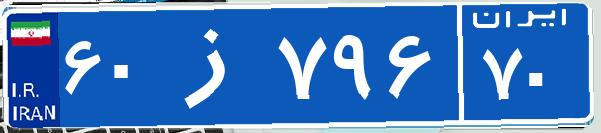0: (110, 28, 158, 105), (525, 38, 570, 115)
6: (385, 28, 445, 110), (57, 26, 110, 107)
7: (273, 28, 330, 110), (475, 38, 525, 113)
9: (330, 28, 385, 110)
ز: (158, 15, 273, 115)
